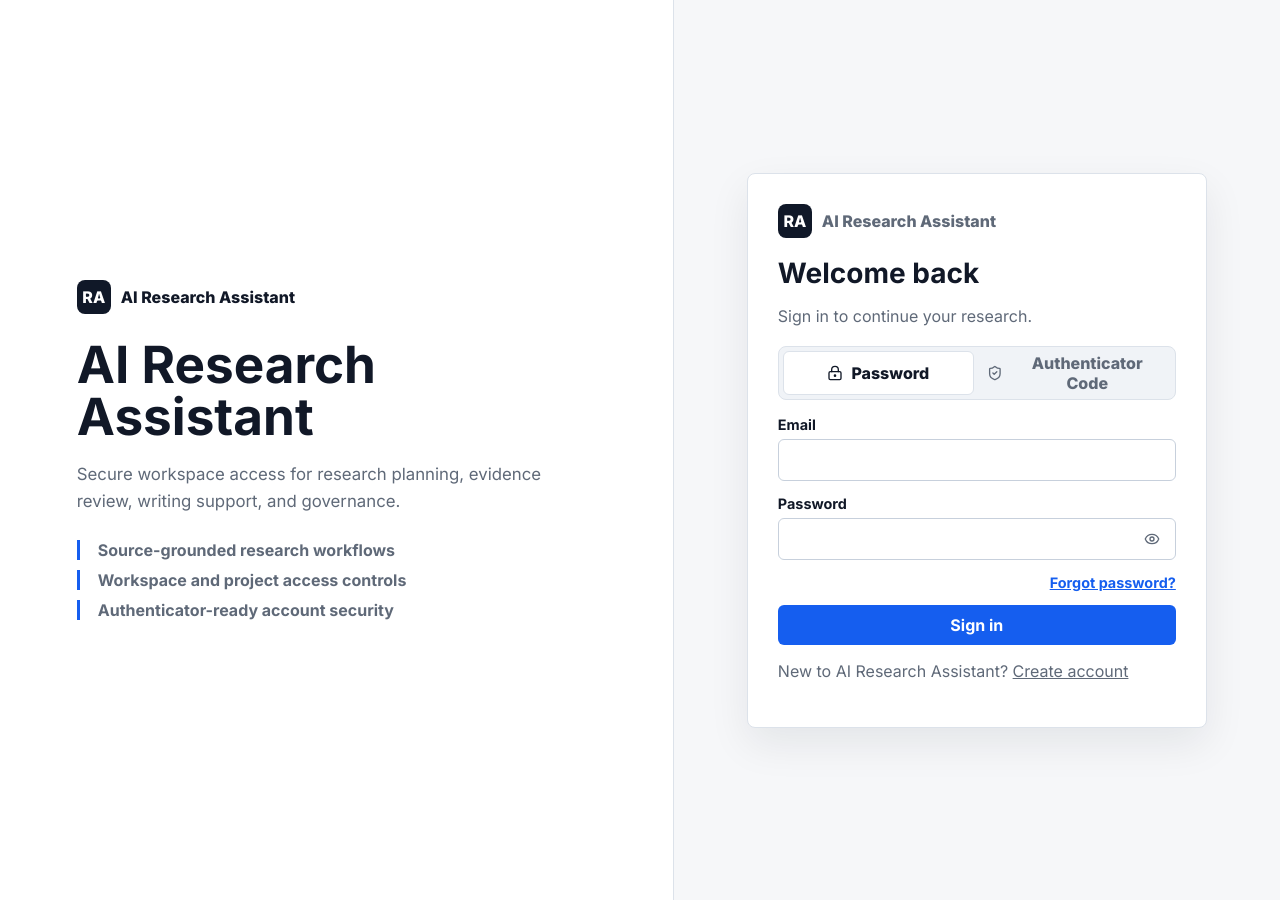
LoginPage › defaults to the password tab and validates required fields
The image size is (1280, 900).
Expected: the field labelled "Email" is shown, [778,438,1176,480]
Expected: the password field labelled "Password" is shown, [778,518,1176,560]
Click the button "Sign in" at (977, 624), box [778,604,1176,644]
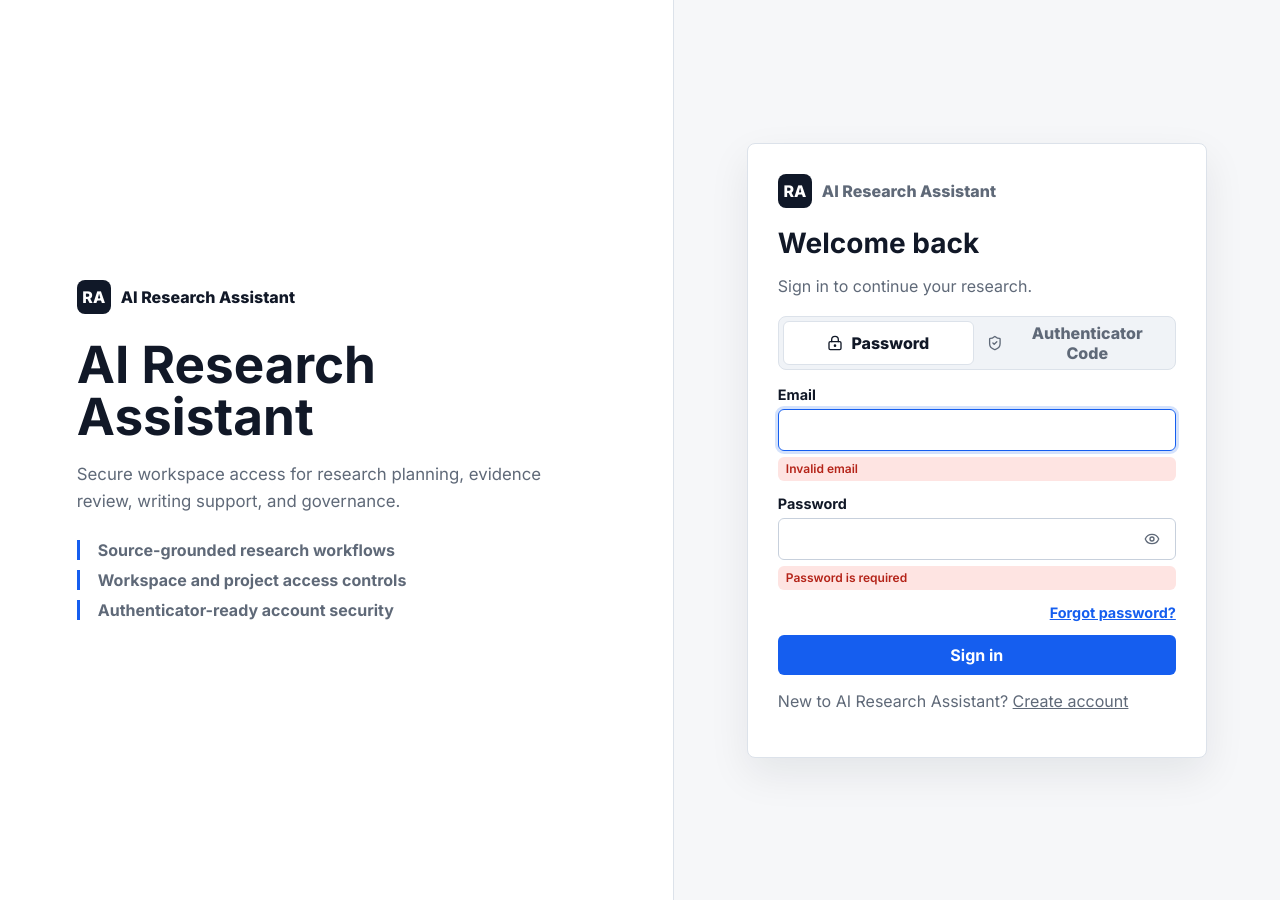
Expected: the text "Invalid email" is shown, [778,456,1176,480]
